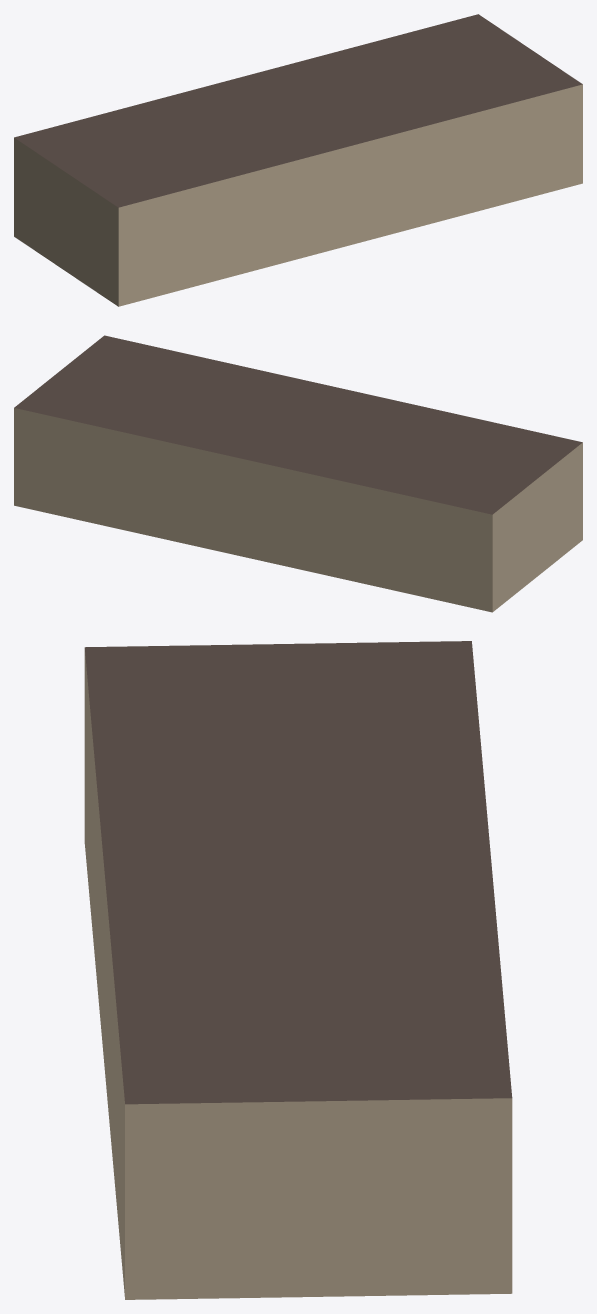
The picture shows the model from 3 angles, top to bottom: view 1: azimuth 30°, elevation 25°; view 2: azimuth 150°, elevation 25°; view 3: azimuth 270°, elevation 25°; orthographic projection. The views are drawn at different scales.
Parts seen in each view (by area): view 1: HP-w441877179; view 2: HP-w441877179; view 3: HP-w441877179.
Boxes of the visible parts, x1,y1,x2,y2 form: HP-w441877179: (14,14,582,306); HP-w441877179: (14,335,582,612); HP-w441877179: (84,641,512,1299).
Size of the model in its own units: 45.72 by 9 by 17.83.
